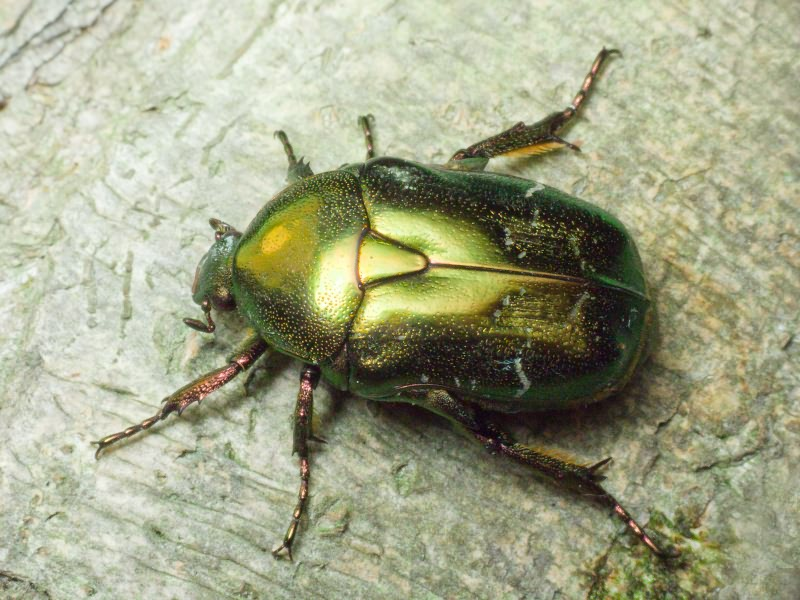Protaetia_fieberi: (70, 45, 677, 574)
